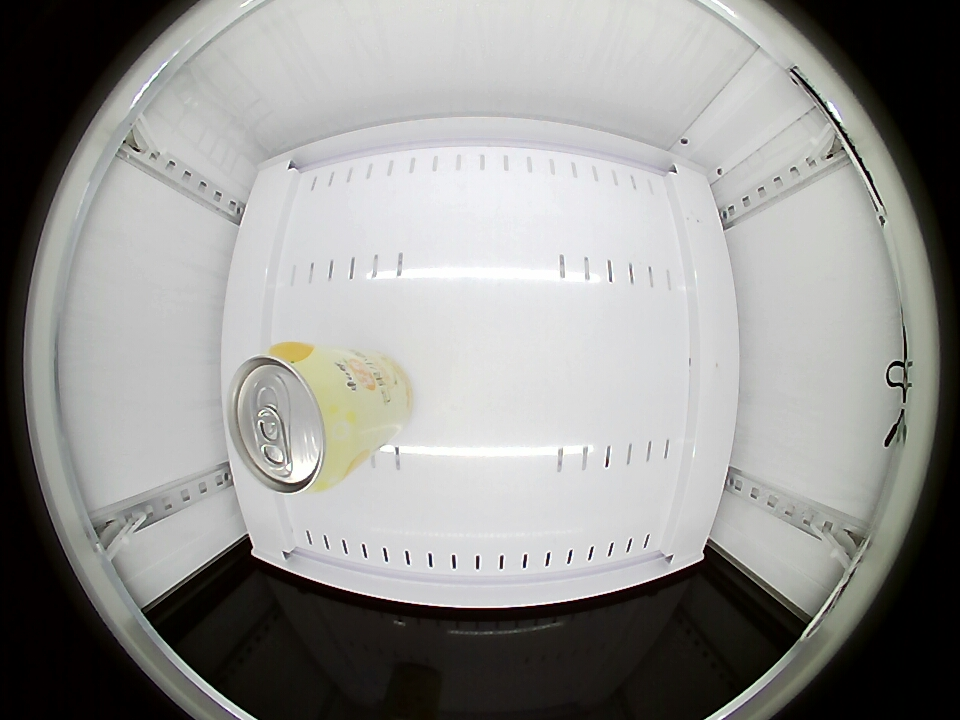mangguoxiaolao: (227, 344, 356, 495)
